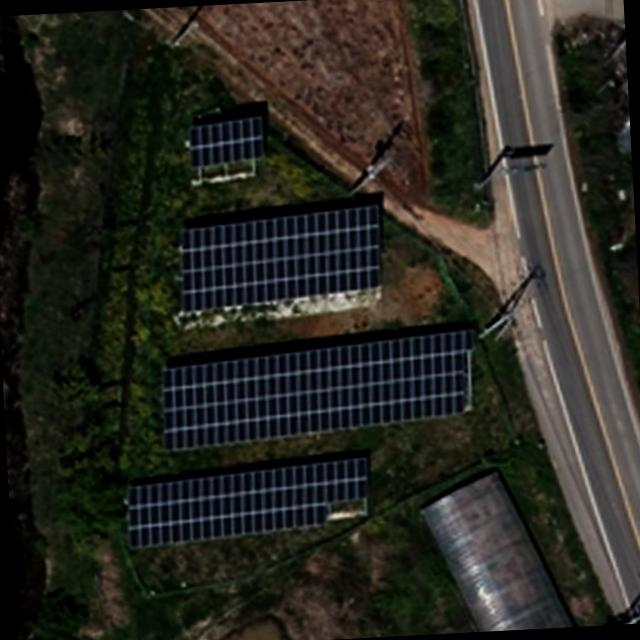solar: (158, 326, 482, 456), (125, 452, 374, 554), (174, 200, 388, 318), (186, 112, 268, 172)
